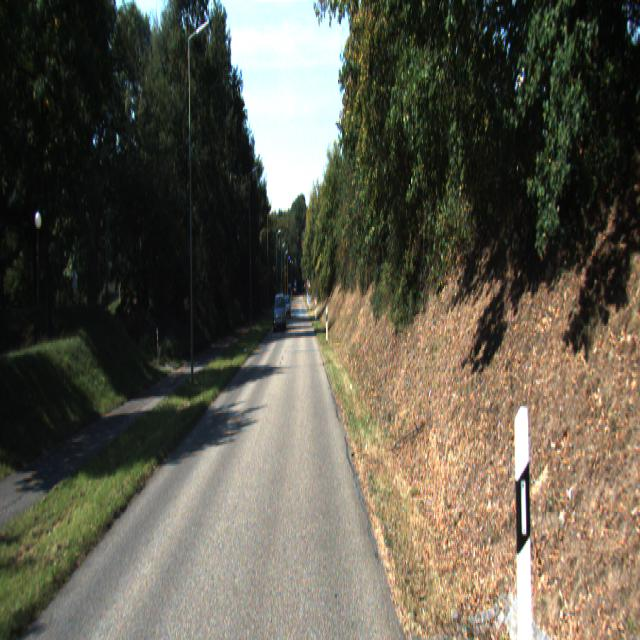Car: (273, 293, 286, 332)
